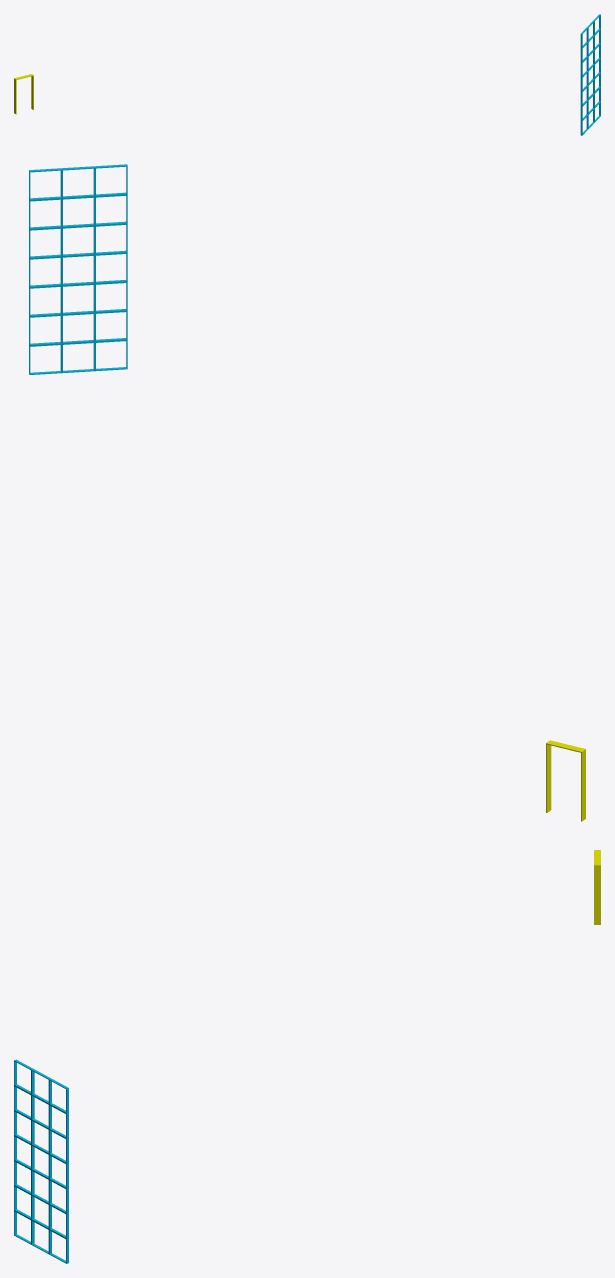
File: OM_Ground Floor_Front Design n Door Frame.fbx
3 renders of one model, top to bottom at view 1: azimuth 30°, elevation 25°; view 2: azimuth 150°, elevation 25°; view 3: azimuth 270°, elevation 25°, orthographic. The views are drawn at different scales.
Visible parts, largest first — view 1: OM_Entrence_Design, Door_Frame; view 2: OM_Entrence_Design, Door_Frame; view 3: OM_Entrence_Design.
Boxes of the visible parts, x1,y1,x2,y2 form: OM_Entrence_Design: (580,14,600,135); Door_Frame: (14,74,33,114); OM_Entrence_Design: (29,164,127,374); Door_Frame: (546,740,585,821); OM_Entrence_Design: (14,1059,68,1263).
Size of the model in its own units: 91.06 by 21.52 by 62.29.
